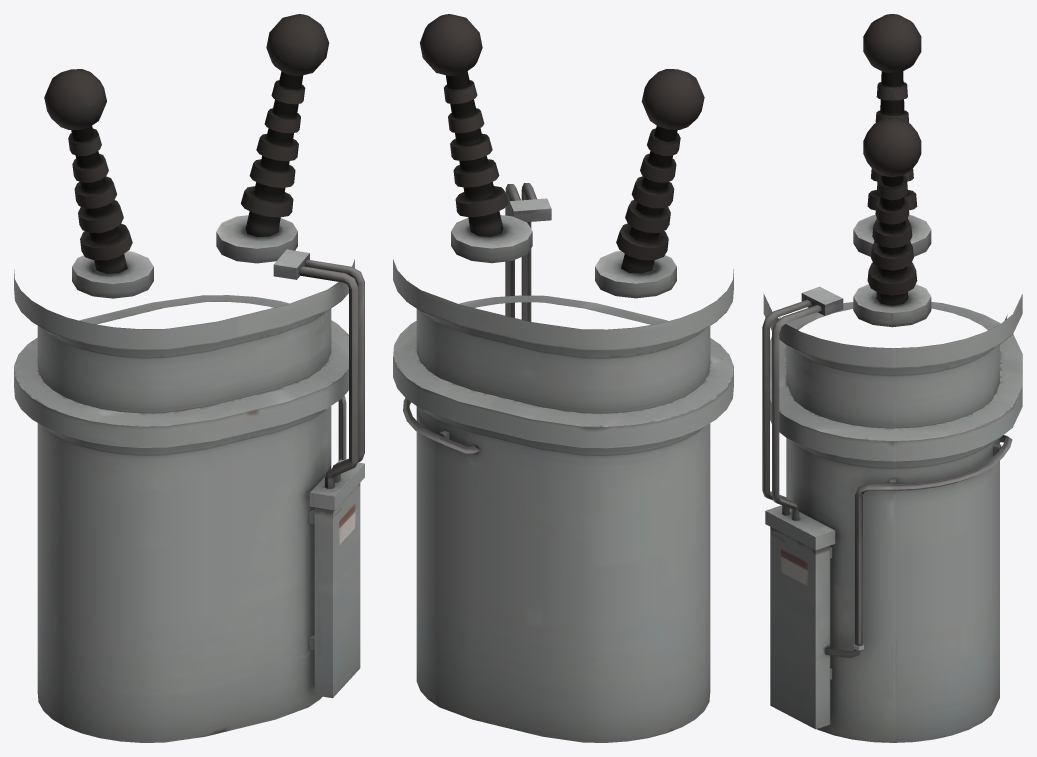
The picture shows the model from 3 angles, left to right: view 1: azimuth 30°, elevation 25°; view 2: azimuth 150°, elevation 25°; view 3: azimuth 270°, elevation 25°; orthographic projection. The views are drawn at different scales.
Parts seen in each view (by area): view 1: body0_model0_lod0_mesh0; view 2: body0_model0_lod0_mesh0; view 3: body0_model0_lod0_mesh0.
Boxes of the visible parts, x1,y1,x2,y2 form: body0_model0_lod0_mesh0: [14, 14, 364, 742]; body0_model0_lod0_mesh0: [393, 14, 733, 742]; body0_model0_lod0_mesh0: [762, 14, 1022, 742].
Size of the model in its own units: 242 by 487 by 187.
Materials: 1 (1 with a texture image).
